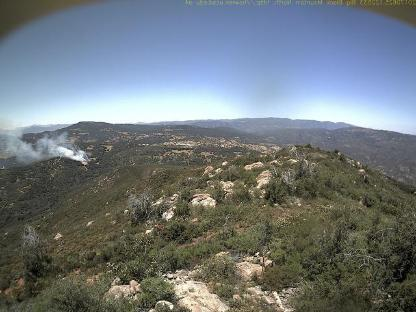smoke: (2, 115, 90, 167)
